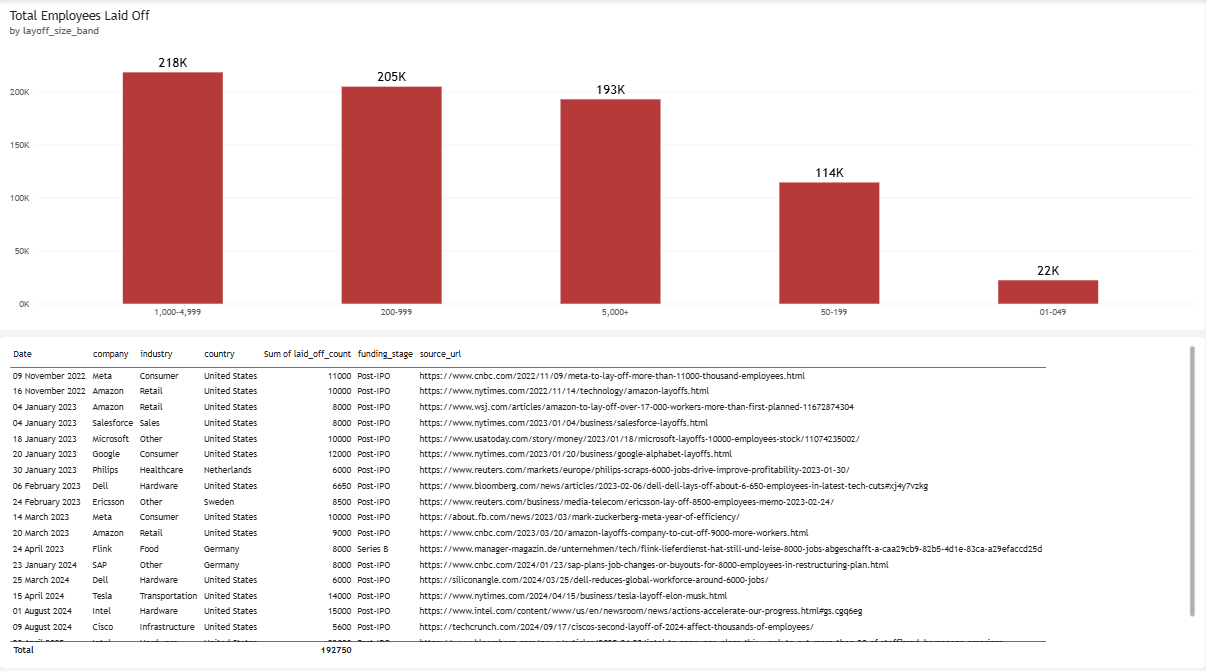

Layout of this report page (visuals, bound fields, positions):
{"tool":"powerbi","page":{"name":"Event Severity/risk","canvas":[1920,1080],"ordinal":3},"visuals":[{"type":"clusteredColumnChart","fields":{"Category":["Fact_Layoffs_data_events.layoff_size_band"],"Y":["Measures Table.Total Employees Laid Off"]},"box":[0,0,1920,528],"z":0},{"type":"tableEx","fields":{"Values":["Date Table.Date","Fact_Layoffs_data_events.company","Fact_Layoffs_data_events.industry","Fact_Layoffs_data_events.country","Sum(Fact_Layoffs_data_events.laid_off_count)","Fact_Layoffs_data_events.funding_stage","Fact_Layoffs_data_events.source_url"]},"box":[0,538,1920,528],"z":1}]}

Visuals, with their boxes in screenshot pixels (x1, y1, x2, y2), scaled from the page's 1920x1080 canvas onto the 1206x671 screenshot:
clusteredColumnChart - Fact_Layoffs_data_events.layoff_size_band x Measures Table.Total Employees Laid Off: 0 0 1205 328
tableEx - Date Table.Date x Fact_Layoffs_data_events.company: 0 334 1205 662
